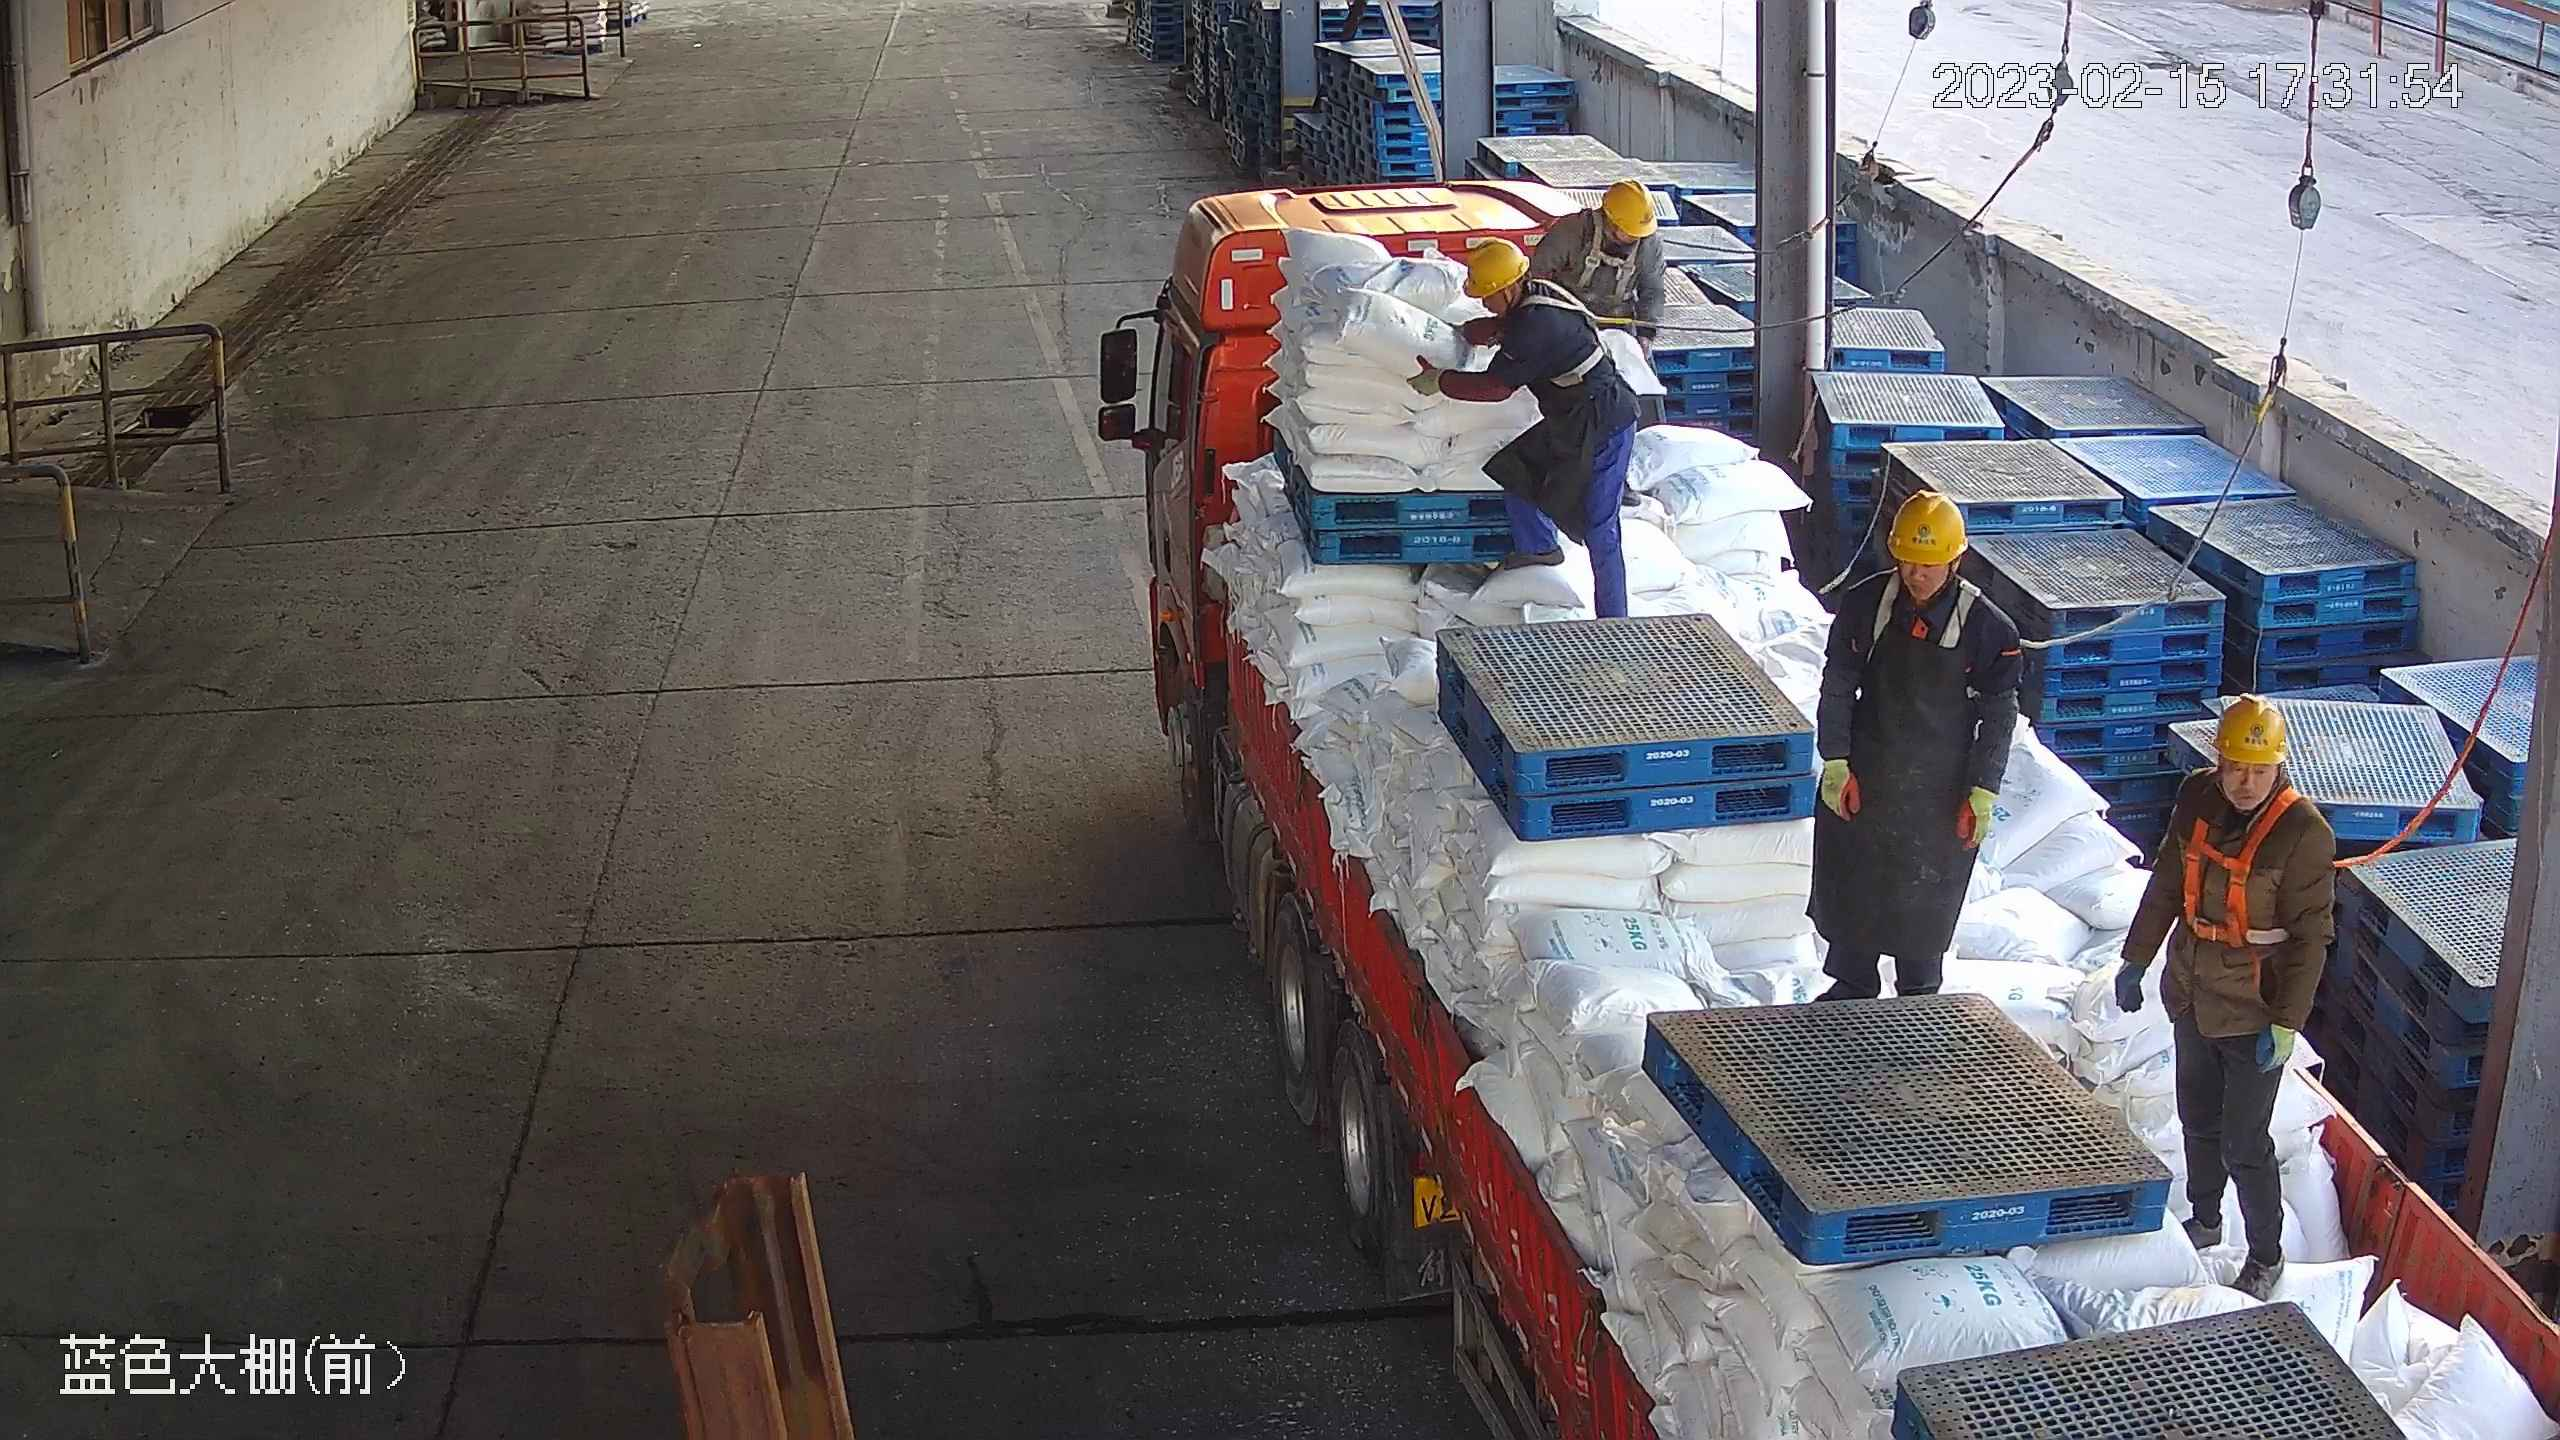belt: (2178, 779, 2376, 949), (1866, 562, 2039, 670), (1514, 273, 1632, 391), (1576, 206, 1682, 300)
head: (1837, 487, 2027, 660), (2168, 690, 2337, 853), (1462, 235, 1594, 336), (1549, 179, 1665, 258)
helmet: (1886, 489, 1969, 566), (2211, 691, 2289, 765), (1461, 236, 1530, 299), (1600, 179, 1659, 239)
people: (2113, 692, 2339, 1298), (1809, 489, 2026, 1003), (1410, 235, 1644, 619), (1529, 177, 1671, 429)
truck: (1141, 177, 2560, 1440)
